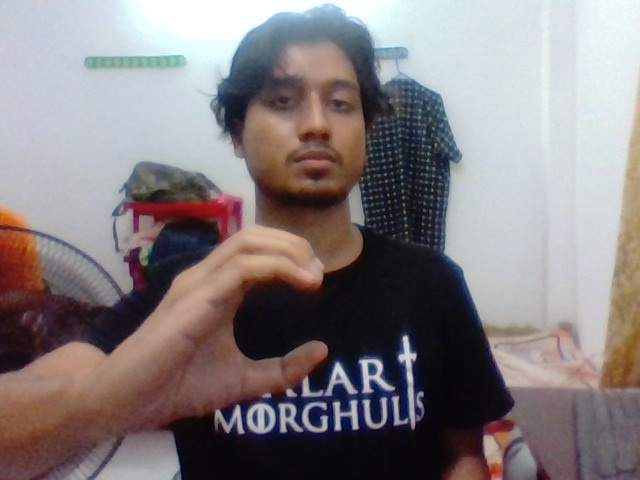C: (151, 210, 374, 424)
